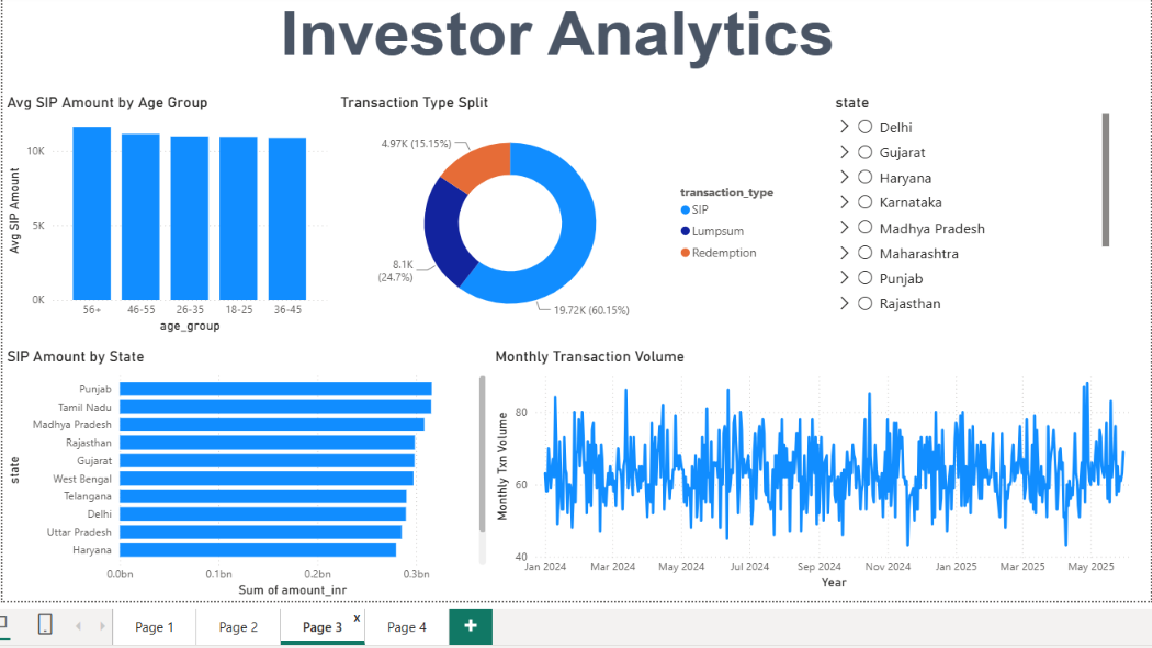

What the dashboard file says about the page in this screenshot:
{"tool":"powerbi","page":{"name":"Page 3","canvas":[1280,720],"ordinal":2},"visuals":[{"type":"textbox","box":[300.8,0,649.3,116.2],"z":0},{"type":"clusteredBarChart","title":"SIP Amount by State","fields":{"Y":["Sum(08_investor_transactions.amount_inr)"],"Category":["08_investor_transactions.state"]},"box":[0,419.4,544.2,300.8],"z":1000},{"type":"lineChart","title":"Monthly Transaction Volume","fields":{"Y":["01_fund_master.Monthly Txn Volume"],"Category":["08_investor_transactions.transaction_date.Variation.Date Hierarchy.Year","08_investor_transactions.transaction_date.Variation.Date Hierarchy.Quarter","08_investor_transactions.transaction_date.Variation.Date Hierarchy.Month","08_investor_transactions.transaction_date.Variation.Date Hierarchy.Day"]},"box":[544.2,419.4,736.1,292.3],"z":2000},{"type":"clusteredColumnChart","title":"Avg SIP Amount by Age Group","fields":{"Y":["01_fund_master.Avg SIP Amount"],"Category":["08_investor_transactions.age_group"]},"box":[0,116.2,366.8,289.8],"z":3000},{"type":"donutChart","title":"Transaction Type Split","fields":{"Category":["08_investor_transactions.transaction_type"],"Y":["CountNonNull(08_investor_transactions.transaction_type)"]},"box":[371.7,116.2,507.5,289.8],"z":4000},{"type":"listSlicer","fields":{"Values":["08_investor_transactions.state","08_investor_transactions.age_group","08_investor_transactions.city_tier"]},"box":[923.2,116.2,315.5,269],"z":5000}]}

Visuals, with their boxes on the page's 1280x720 design canvas (x1, y1, x2, y2). These are canvas units, not pixel positions in the 1152x648 screenshot, which may show the page scaled, cropped or inside an application window:
textbox: detection(301, 0, 950, 116)
"SIP Amount by State" clusteredBarChart: detection(0, 419, 544, 720)
"Monthly Transaction Volume" lineChart: detection(544, 419, 1280, 712)
"Avg SIP Amount by Age Group" clusteredColumnChart: detection(0, 116, 367, 406)
"Transaction Type Split" donutChart: detection(372, 116, 879, 406)
listSlicer - 08_investor_transactions.state x 08_investor_transactions.age_group: detection(923, 116, 1239, 385)
